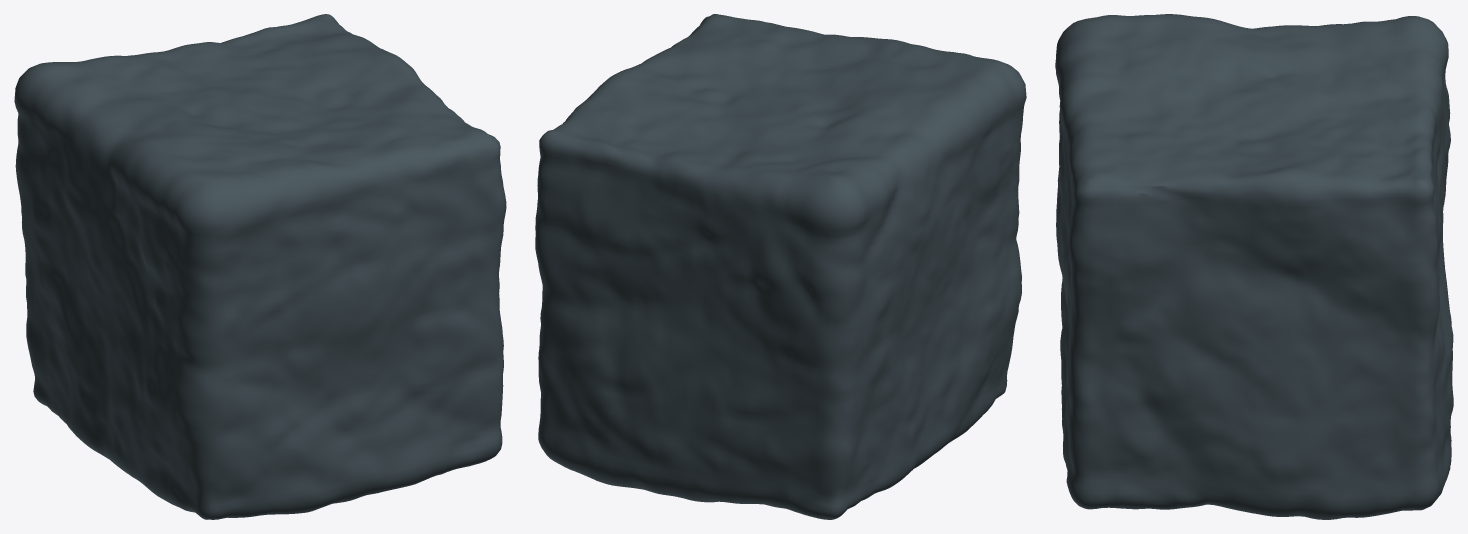
Rendered from Ice.fbx.
3 renders of one model, left to right at view 1: azimuth 30°, elevation 25°; view 2: azimuth 150°, elevation 25°; view 3: azimuth 270°, elevation 25°, orthographic. The views are drawn at different scales.
Visible parts, largest first — view 1: Cube; view 2: Cube; view 3: Cube.
Boxes of the visible parts, x1=… form: Cube: x1=14, y1=14, x2=506, y2=519; Cube: x1=535, y1=14, x2=1026, y2=519; Cube: x1=1055, y1=14, x2=1453, y2=519.
Bounding box in the file's own units: 210 × 214 × 211.
